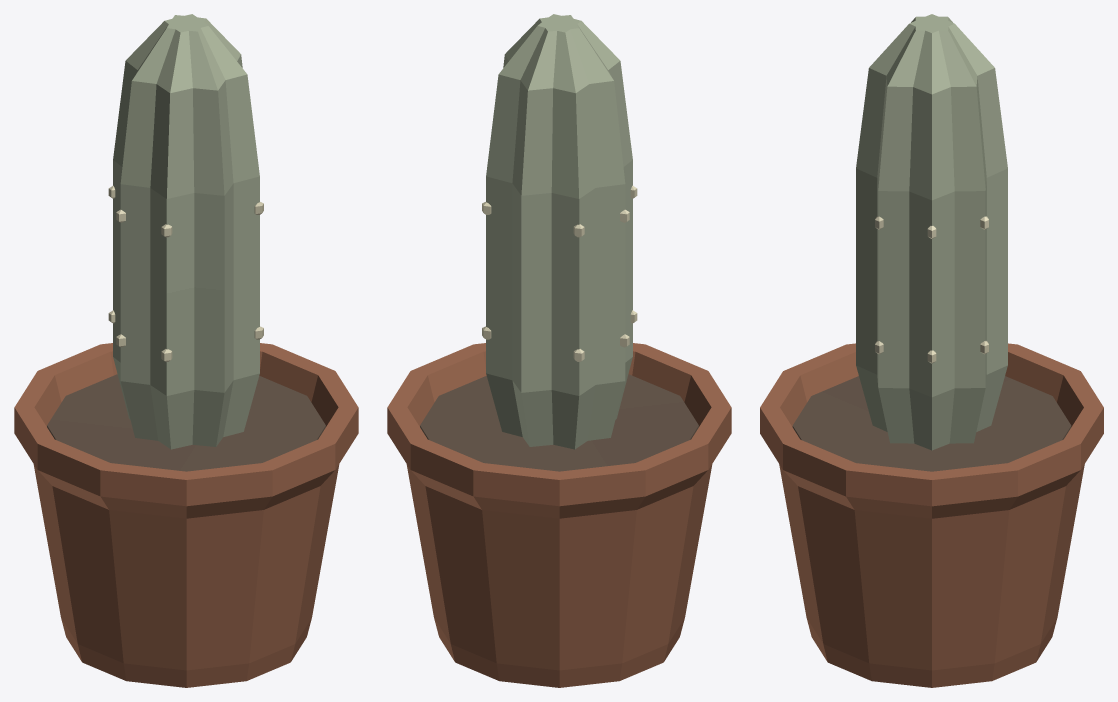
Rendered from new-senilis.glb.
The picture shows the model from 3 angles, left to right: view 1: azimuth 30°, elevation 25°; view 2: azimuth 150°, elevation 25°; view 3: azimuth 270°, elevation 25°; orthographic projection.
Parts seen in each view (by area): view 1: new-senilis/review-terra-vessel, new-senilis/ribbed-stem-001, new-senilis/review-rooted-soil; view 2: new-senilis/review-terra-vessel, new-senilis/ribbed-stem-001, new-senilis/review-rooted-soil; view 3: new-senilis/review-terra-vessel, new-senilis/ribbed-stem-001, new-senilis/review-rooted-soil.
Part boxes in pixels (box(x1,y1,x2,y2)): new-senilis/review-terra-vessel: box(14, 343, 358, 687); new-senilis/ribbed-stem-001: box(113, 14, 259, 449); new-senilis/review-rooted-soil: box(47, 374, 325, 471); new-senilis/review-terra-vessel: box(387, 343, 731, 687); new-senilis/ribbed-stem-001: box(486, 14, 632, 449); new-senilis/review-rooted-soil: box(420, 374, 698, 471); new-senilis/review-terra-vessel: box(760, 343, 1103, 687); new-senilis/ribbed-stem-001: box(856, 14, 1007, 450); new-senilis/review-rooted-soil: box(792, 376, 1071, 471).
Size of the model in its own units: 0.19 by 0.374 by 0.19.
4 materials, 4 textured.
